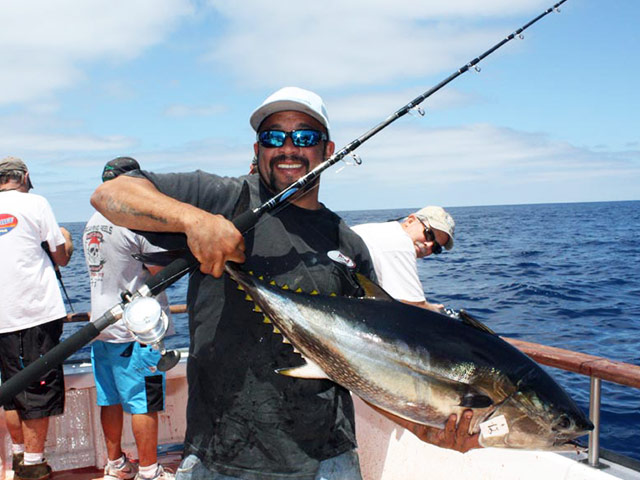Bluefina Tuna: (190, 201, 604, 471)
